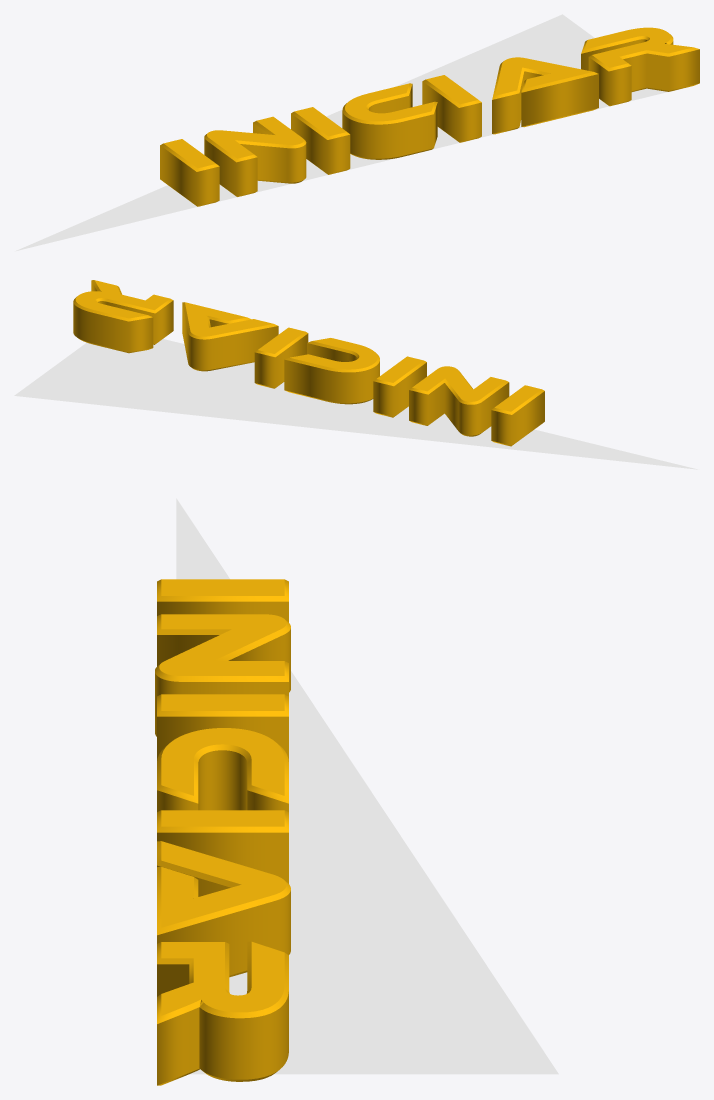
File: iniciar.fbx
3 renders of one model, top to bottom at view 1: azimuth 30°, elevation 25°; view 2: azimuth 150°, elevation 25°; view 3: azimuth 270°, elevation 25°, orthographic. The views are drawn at different scales.
Visible parts, largest first — view 1: iniciar, Plane.001; view 2: iniciar, Plane.001; view 3: iniciar, Plane.001.
Boxes of the visible parts, x1,y1,x2,y2 form: iniciar: (160,27,699,206); Plane.001: (15,14,667,251); iniciar: (73,280,544,446); Plane.001: (14,339,697,469); iniciar: (155,579,290,1085); Plane.001: (176,498,558,1074).
Bounding box in the file's own units: 648 × 38.69 × 185.
